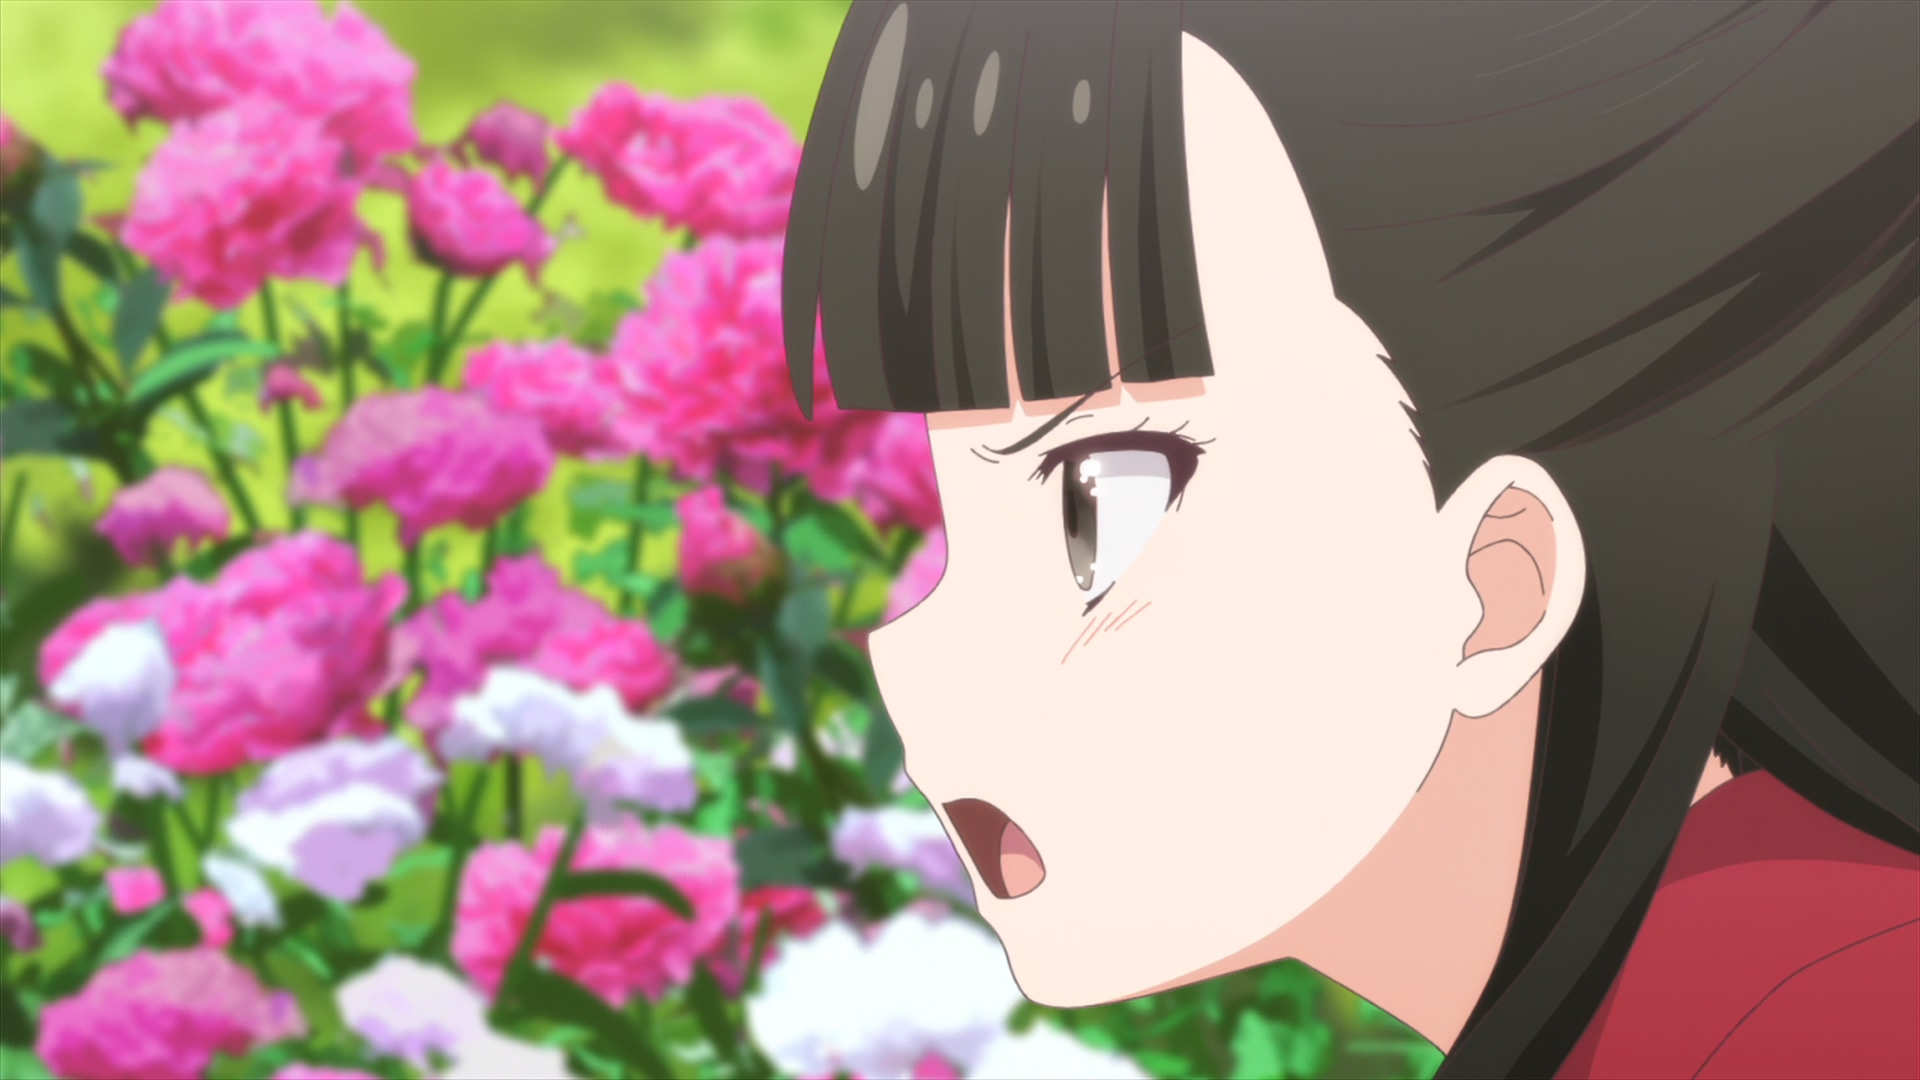其他: (779, 1, 1920, 1080)
